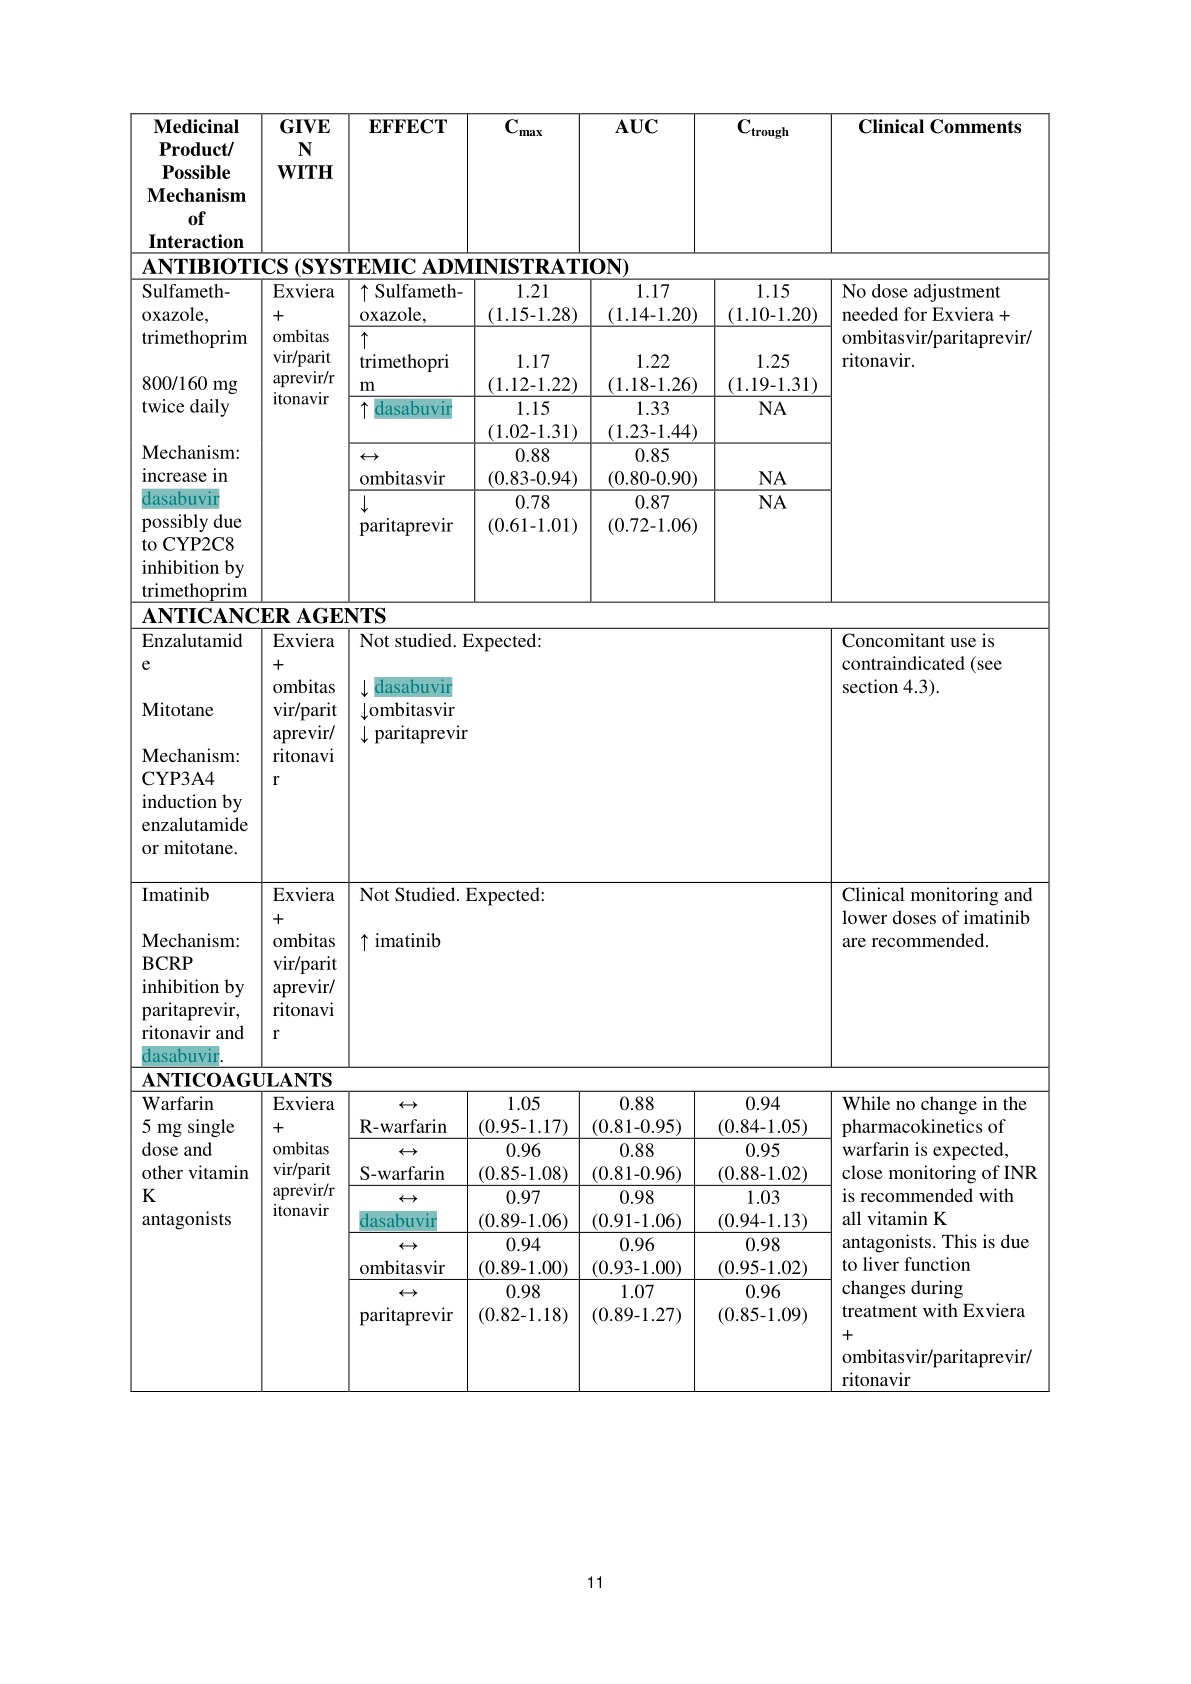merged_cells: (128, 111, 1051, 1394)
